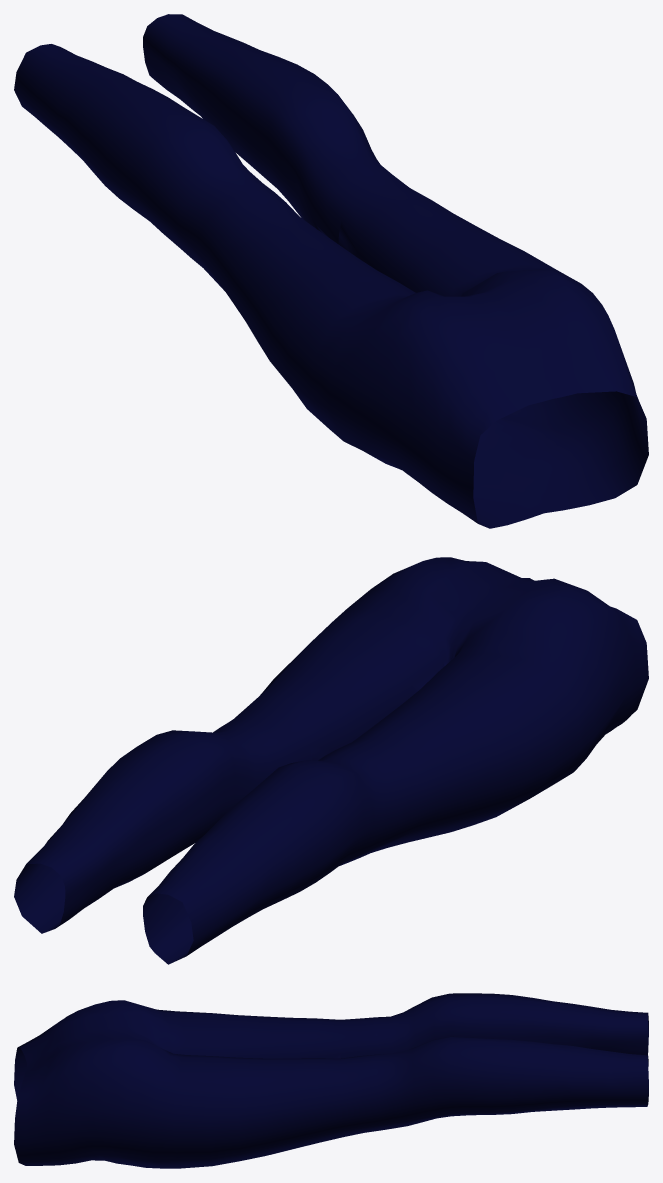
The model's file is cloth_shaped.obj.
3 views of the same model, one above another, from view 1: azimuth 30°, elevation 25°; view 2: azimuth 150°, elevation 25°; view 3: azimuth 270°, elevation 25° (orthographic). The views are drawn at different scales.
Parts seen in each view (by area): view 1: bottom_M; view 2: bottom_M; view 3: bottom_M.
Part boxes in pixels (x1,y1,x2,y2): bottom_M: (14,14,648,528); bottom_M: (14,557,648,964); bottom_M: (14,993,648,1168).
Bounding box in the file's own units: 0.907 × 0.598 × 2.65.
